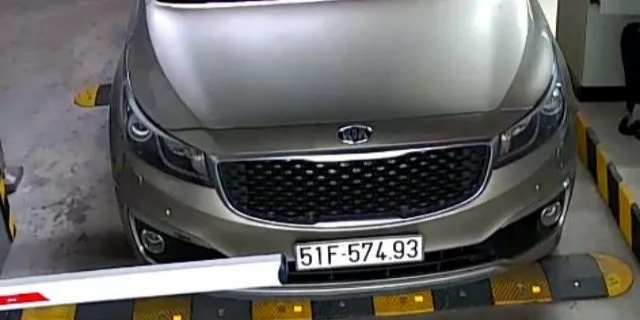bien_so: (297, 240, 422, 267)
